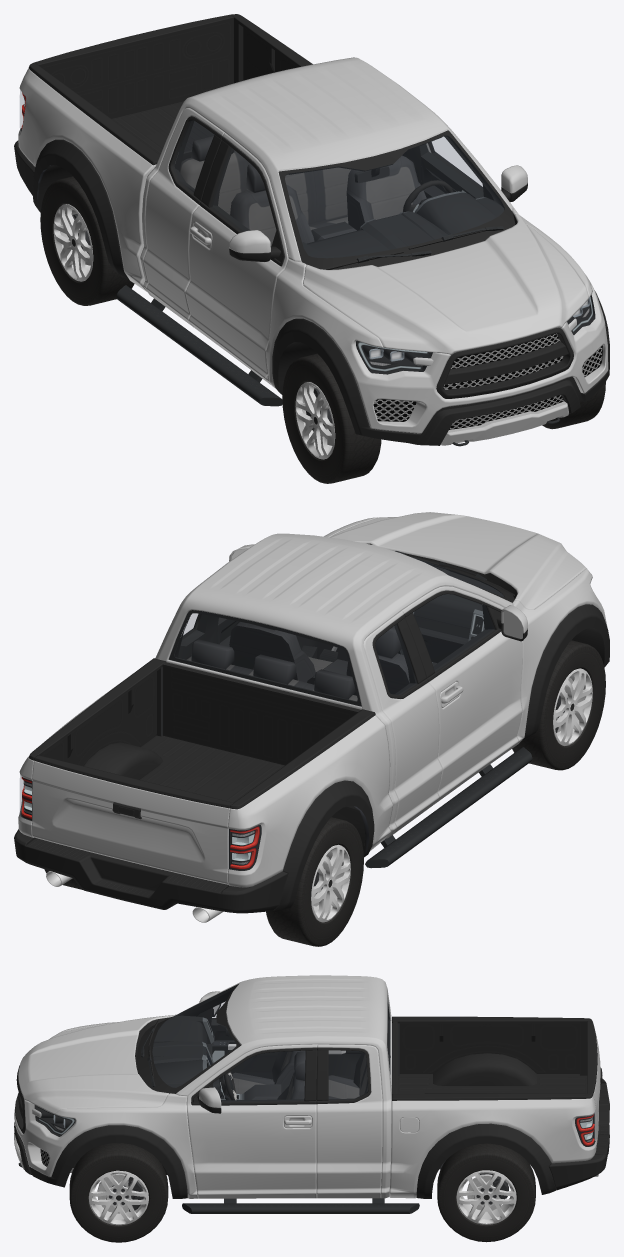
Rendered from RealisticCar04_HD_LOD1.FBX.
3 views of the same model, one above another, from view 1: azimuth 30°, elevation 25°; view 2: azimuth 150°, elevation 25°; view 3: azimuth 270°, elevation 25° (orthographic). The views are drawn at different scales.
Visible parts, largest first — view 1: Car04_Body_LOD1, Car04_Interior_LOD1, Car04_Door_Front_Right_LOD1, Car04_Door_Back_LOD1, Car04_Door_Rear_Right_LOD1, Wheel_Front_Right_LOD1, Wheel_Rear_Right_LOD1, Car04_Door_Front_Left_LOD1, Wheel_Front_Left_LOD1; view 2: Car04_Body_LOD1, Car04_Door_Back_LOD1, Car04_Door_Front_Right_LOD1, Car04_Interior_LOD1, Car04_Door_Rear_Right_LOD1, Wheel_Rear_Right_LOD1, Wheel_Front_Right_LOD1, Car04_Door_Rear_Left_LOD1; view 3: Car04_Body_LOD1, Car04_Door_Front_Left_LOD1, Car04_Door_Rear_Left_LOD1, Car04_Interior_LOD1, Wheel_Front_Left_LOD1, Wheel_Rear_Left_LOD1, Car04_Door_Front_Right_LOD1, Car04_Door_Back_LOD1, Car04_Door_Rear_Right_LOD1, Car04_Interior_SteeringWheel_LOD1.
Boxes of the visible parts, x1=… form: Car04_Body_LOD1: x1=14, y1=14, x2=609, y2=446; Car04_Interior_LOD1: x1=174, y1=120, x2=504, y2=258; Car04_Door_Front_Right_LOD1: x1=185, y1=133, x2=288, y2=384; Car04_Door_Back_LOD1: x1=34, y1=14, x2=233, y2=118; Car04_Door_Rear_Right_LOD1: x1=143, y1=108, x2=233, y2=327; Wheel_Front_Right_LOD1: x1=282, y1=353, x2=381, y2=483; Wheel_Rear_Right_LOD1: x1=40, y1=176, x2=134, y2=305; Car04_Door_Front_Left_LOD1: x1=421, y1=141, x2=527, y2=202; Wheel_Front_Left_LOD1: x1=542, y1=382, x2=605, y2=429; Car04_Body_LOD1: x1=14, y1=512, x2=609, y2=922; Car04_Door_Back_LOD1: x1=31, y1=755, x2=233, y2=884; Car04_Door_Front_Right_LOD1: x1=402, y1=586, x2=527, y2=804; Car04_Interior_LOD1: x1=174, y1=563, x2=504, y2=701; Car04_Door_Rear_Right_LOD1: x1=363, y1=610, x2=442, y2=835; Wheel_Rear_Right_LOD1: x1=266, y1=817, x2=363, y2=946; Wheel_Front_Right_LOD1: x1=512, y1=640, x2=605, y2=770; Car04_Door_Rear_Left_LOD1: x1=178, y1=614, x2=218, y2=659; Car04_Body_LOD1: x1=14, y1=975, x2=609, y2=1213; Car04_Door_Front_Left_LOD1: x1=186, y1=1044, x2=317, y2=1198; Car04_Door_Rear_Left_LOD1: x1=316, y1=1044, x2=382, y2=1198; Car04_Interior_LOD1: x1=152, y1=986, x2=390, y2=1100; Wheel_Front_Left_LOD1: x1=69, y1=1143, x2=168, y2=1242; Wheel_Rear_Left_LOD1: x1=437, y1=1143, x2=535, y2=1242; Car04_Door_Front_Right_LOD1: x1=197, y1=991, x2=279, y2=1079; Car04_Door_Back_LOD1: x1=587, y1=1021, x2=602, y2=1150; Car04_Door_Rear_Right_LOD1: x1=328, y1=1050, x2=361, y2=1079; Car04_Interior_SteeringWheel_LOD1: x1=219, y1=1070, x2=236, y2=1100.
Bounding box in the file's own units: 2.55 × 5.87 × 2.09.
